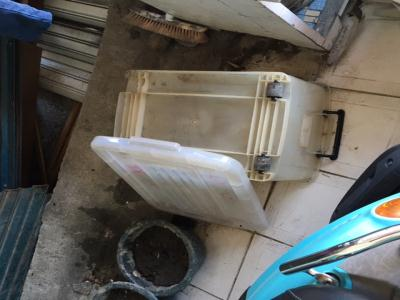box: (108, 64, 333, 185)
